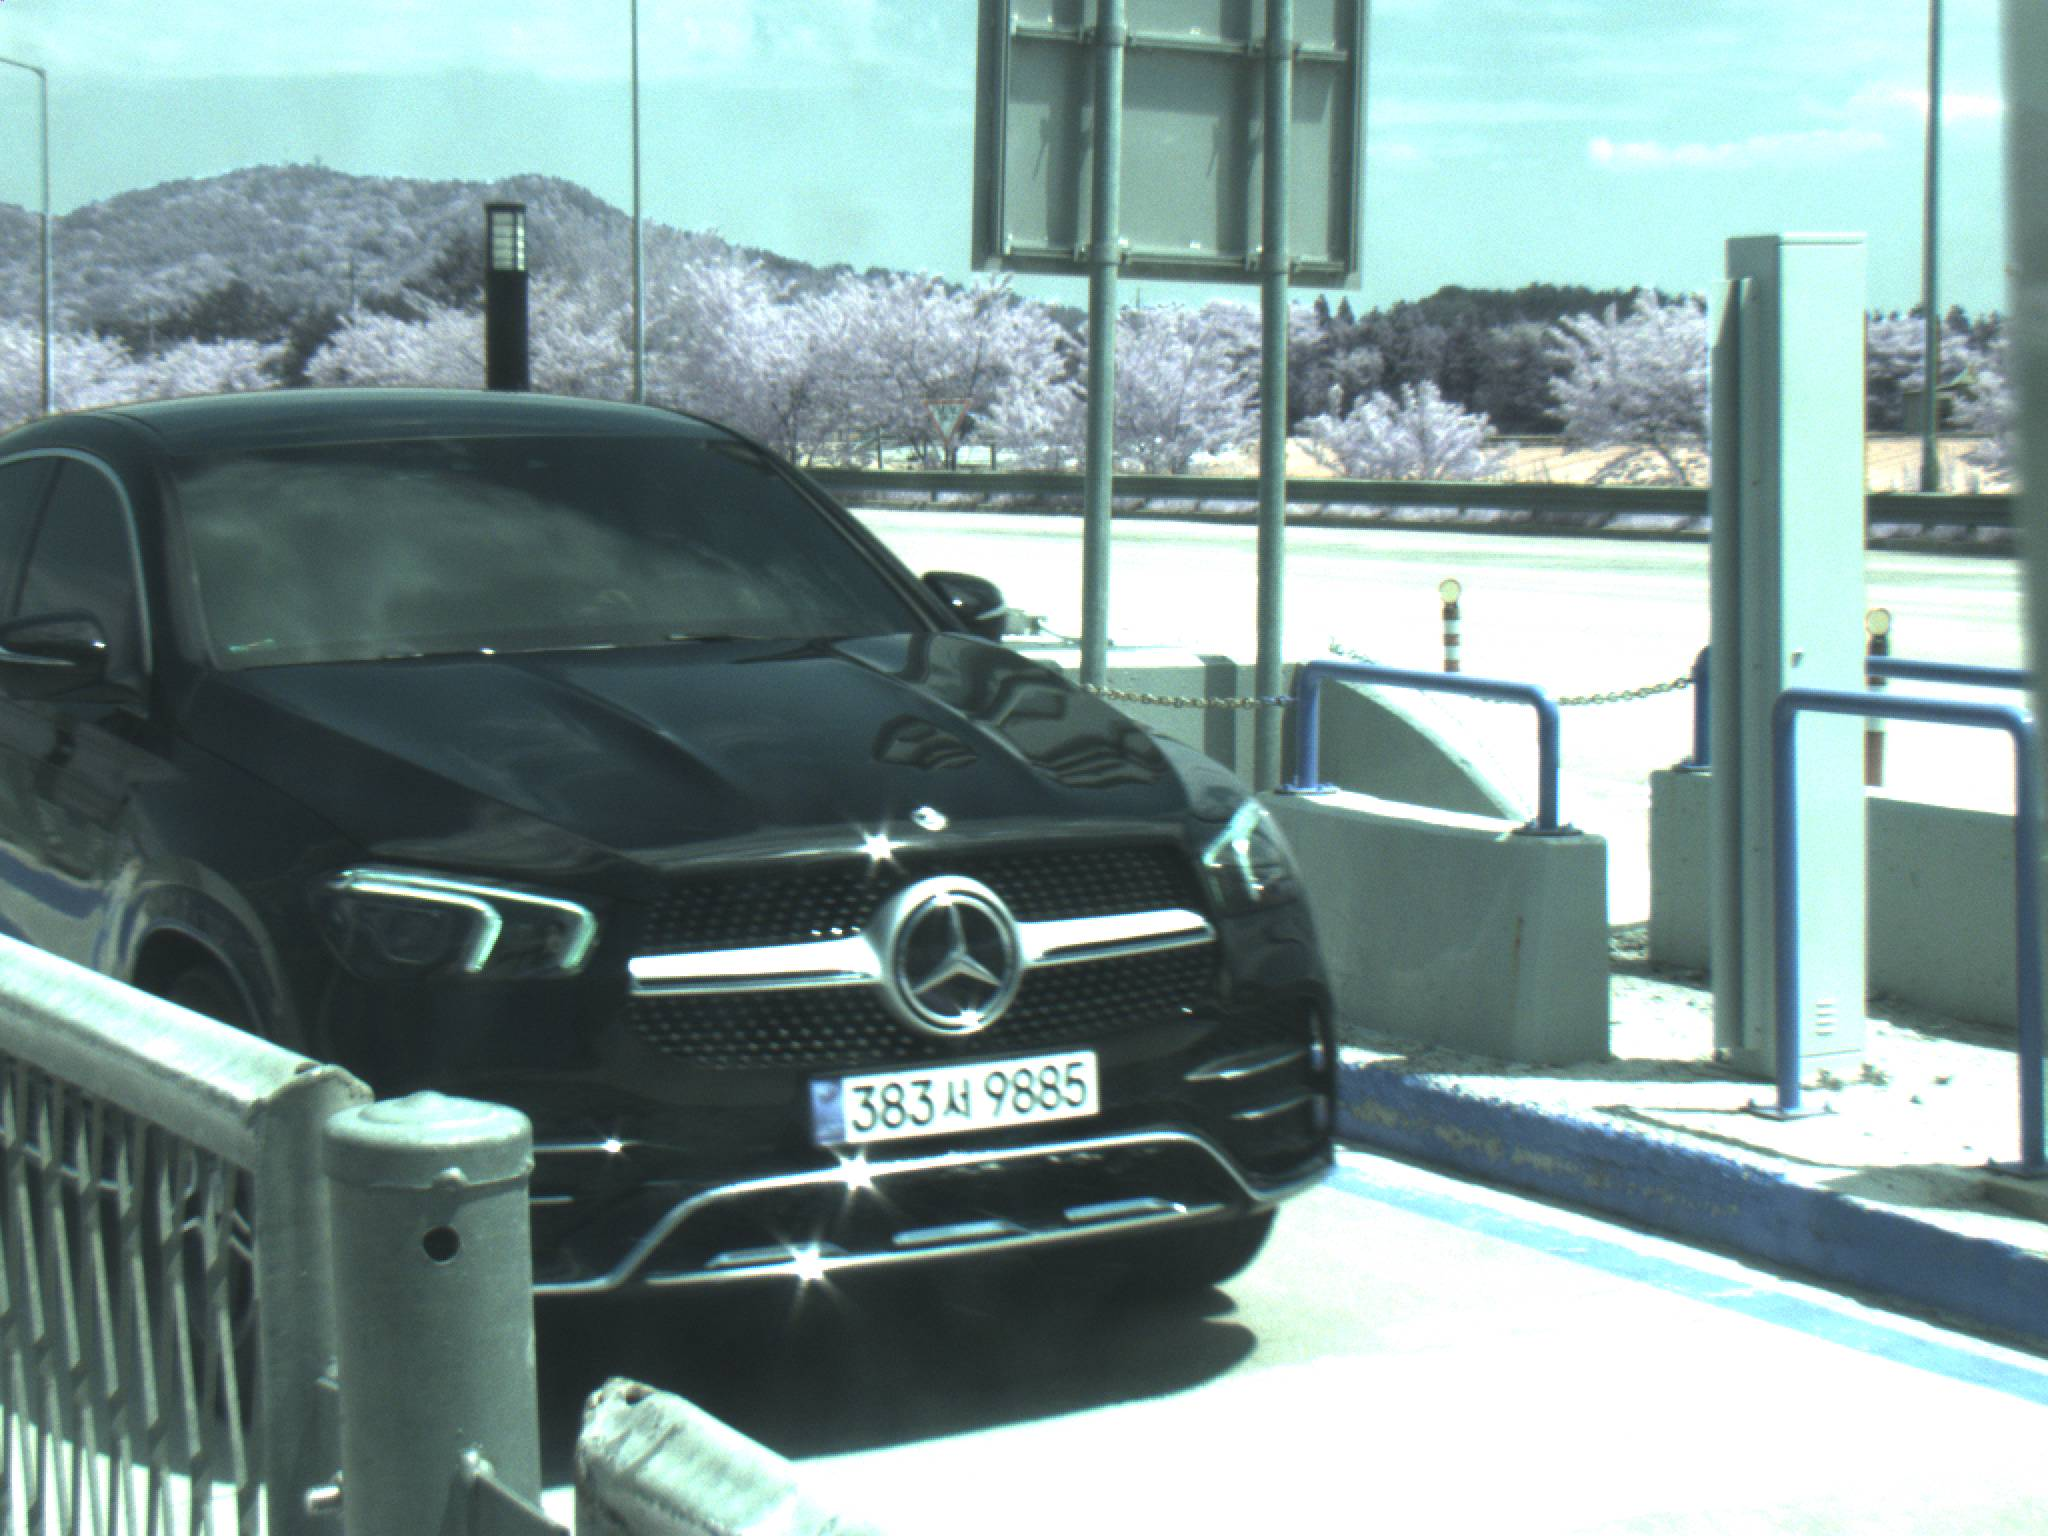car: (1, 377, 1340, 1423)
plate: (791, 1047, 1102, 1151)
